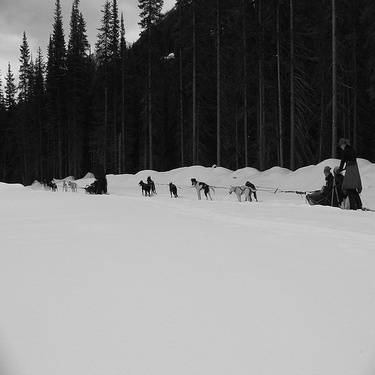dog: (188, 176, 215, 202), (225, 182, 259, 202), (241, 175, 259, 202), (164, 177, 180, 198), (136, 181, 153, 197), (145, 175, 157, 196), (66, 178, 79, 194), (41, 176, 51, 193), (48, 177, 58, 192), (61, 175, 68, 192)
